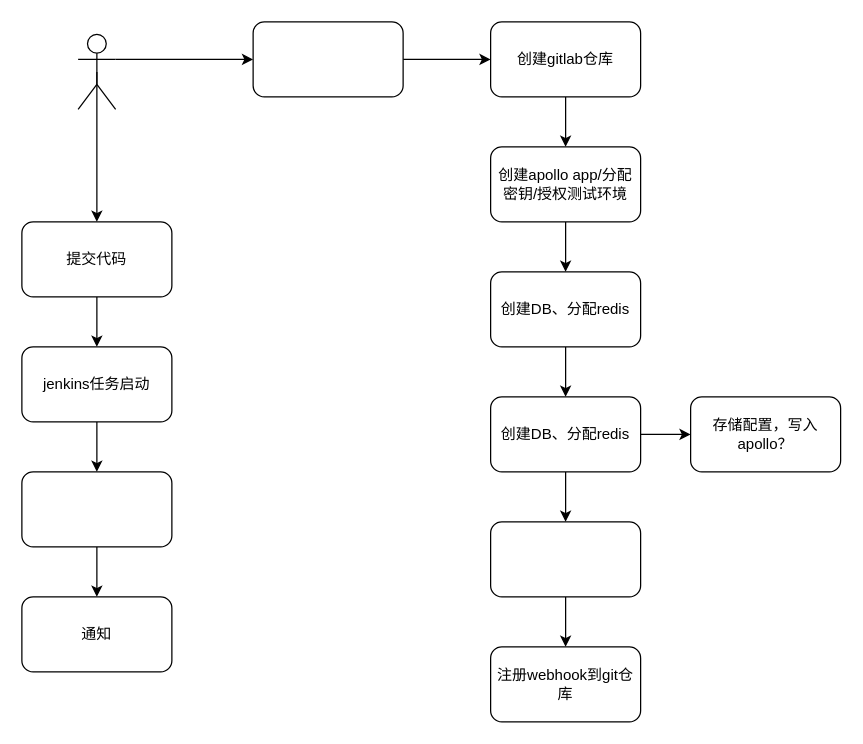
This 863x744 diagram has some shape labels left out. Each missing label, with the centre of its shape:
"Actor" belongs at point 96,71.
"创建jenkins任务" belongs at point 565,559.
"构建/部署" belongs at point 96,509.
"申请创建项目" belongs at point 327,59.
